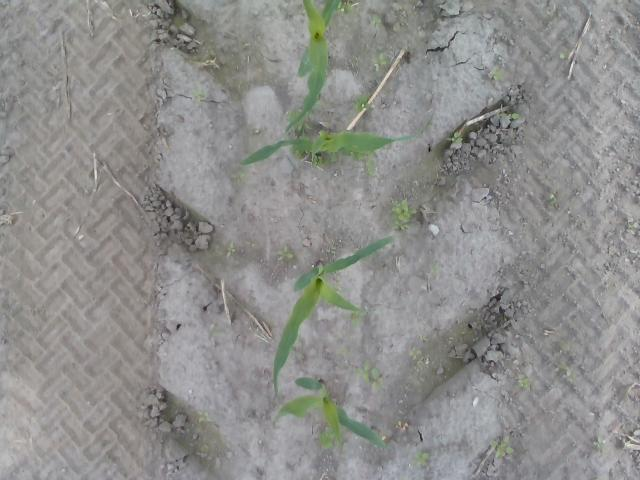Maize: (270, 236, 397, 400), (273, 374, 391, 448), (284, 0, 338, 140), (238, 128, 418, 165)
Weeds: (352, 358, 384, 390), (388, 197, 412, 230), (489, 438, 513, 459), (410, 346, 426, 370), (318, 431, 335, 450), (373, 52, 388, 73), (278, 244, 294, 262), (560, 363, 576, 380), (351, 310, 367, 326), (366, 152, 376, 176), (208, 322, 225, 336), (414, 450, 428, 466), (356, 94, 368, 111), (338, 0, 352, 14), (449, 129, 463, 143), (370, 14, 382, 30), (492, 64, 504, 80), (191, 88, 208, 99), (197, 410, 211, 423), (595, 430, 604, 450), (226, 242, 237, 258), (516, 375, 528, 389), (230, 172, 245, 183), (297, 122, 310, 133), (510, 112, 526, 120), (288, 110, 297, 122), (430, 264, 440, 273), (314, 155, 320, 169), (244, 240, 254, 248), (560, 51, 566, 60), (420, 335, 428, 341), (472, 336, 479, 342)
